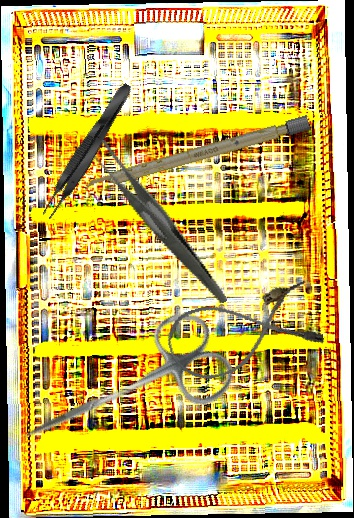Cannula: (161, 277, 326, 388)
Dressing Forceps: (87, 119, 228, 328)
Iris Scissors: (2, 300, 243, 485)
Scalpel Handle: (82, 115, 311, 194)
Tissue Forceps: (37, 79, 138, 223)
